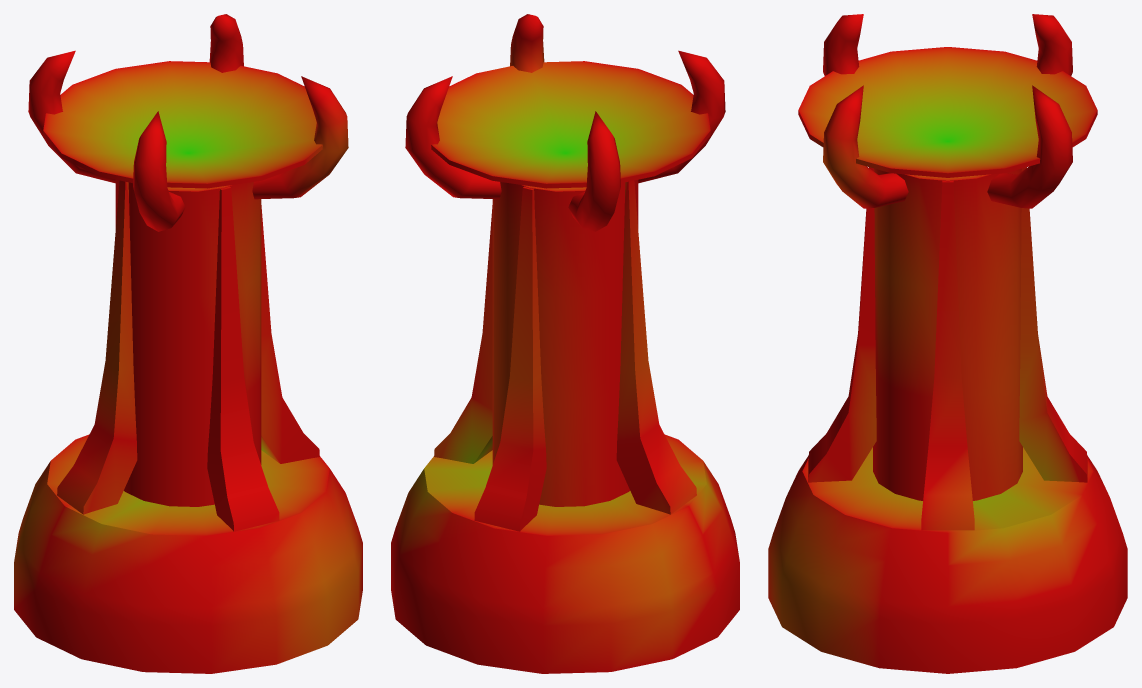
Rendered from fbxPedestal.fbx.
The picture shows the model from 3 angles, left to right: view 1: azimuth 30°, elevation 25°; view 2: azimuth 150°, elevation 25°; view 3: azimuth 270°, elevation 25°; orthographic projection. The views are drawn at different scales.
Visible parts, largest first — view 1: PedestalMesh; view 2: PedestalMesh; view 3: PedestalMesh.
Boxes of the visible parts, x1,y1,x2,y2 form: PedestalMesh: [14, 14, 362, 673]; PedestalMesh: [391, 14, 739, 673]; PedestalMesh: [768, 14, 1127, 673].
Size of the model in its own units: 2 by 3.37 by 2.
